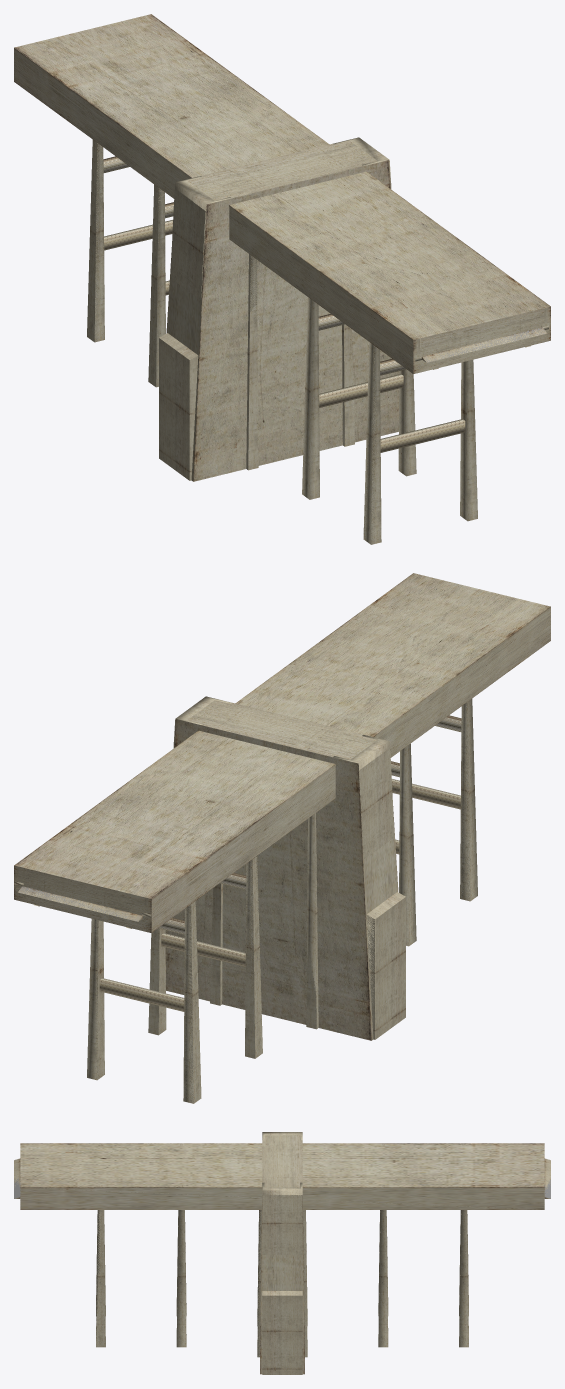
Rendered from concrete_bridge_01a.DAE.
3 renders of one model, top to bottom at view 1: azimuth 30°, elevation 25°; view 2: azimuth 150°, elevation 25°; view 3: azimuth 270°, elevation 25°, orthographic. The views are drawn at different scales.
Parts seen in each view (by area): view 1: concrete_bridge_01a1, Colmesh-1, concrete_bridge_01a1600, concrete_bridge_01a500; view 2: concrete_bridge_01a1, Colmesh-1, concrete_bridge_01a1600, concrete_bridge_01a500; view 3: concrete_bridge_01a1, Colmesh-1, concrete_bridge_01a500, concrete_bridge_01a1600.
Part boxes in pixels (bbox=[...]): concrete_bridge_01a1: bbox=[14, 14, 550, 481]; Colmesh-1: bbox=[94, 137, 548, 544]; concrete_bridge_01a1600: bbox=[18, 15, 550, 544]; concrete_bridge_01a500: bbox=[159, 188, 550, 480]; concrete_bridge_01a1: bbox=[14, 573, 550, 1040]; Colmesh-1: bbox=[14, 696, 477, 1103]; concrete_bridge_01a1600: bbox=[18, 574, 546, 1103]; concrete_bridge_01a500: bbox=[17, 574, 547, 1029]; concrete_bridge_01a1: bbox=[20, 1135, 544, 1374]; Colmesh-1: bbox=[14, 1132, 550, 1357]; concrete_bridge_01a500: bbox=[20, 1144, 307, 1374]; concrete_bridge_01a1600: bbox=[14, 1144, 550, 1374].
Size of the model in its own units: 1463 by 4791 by 1760.
